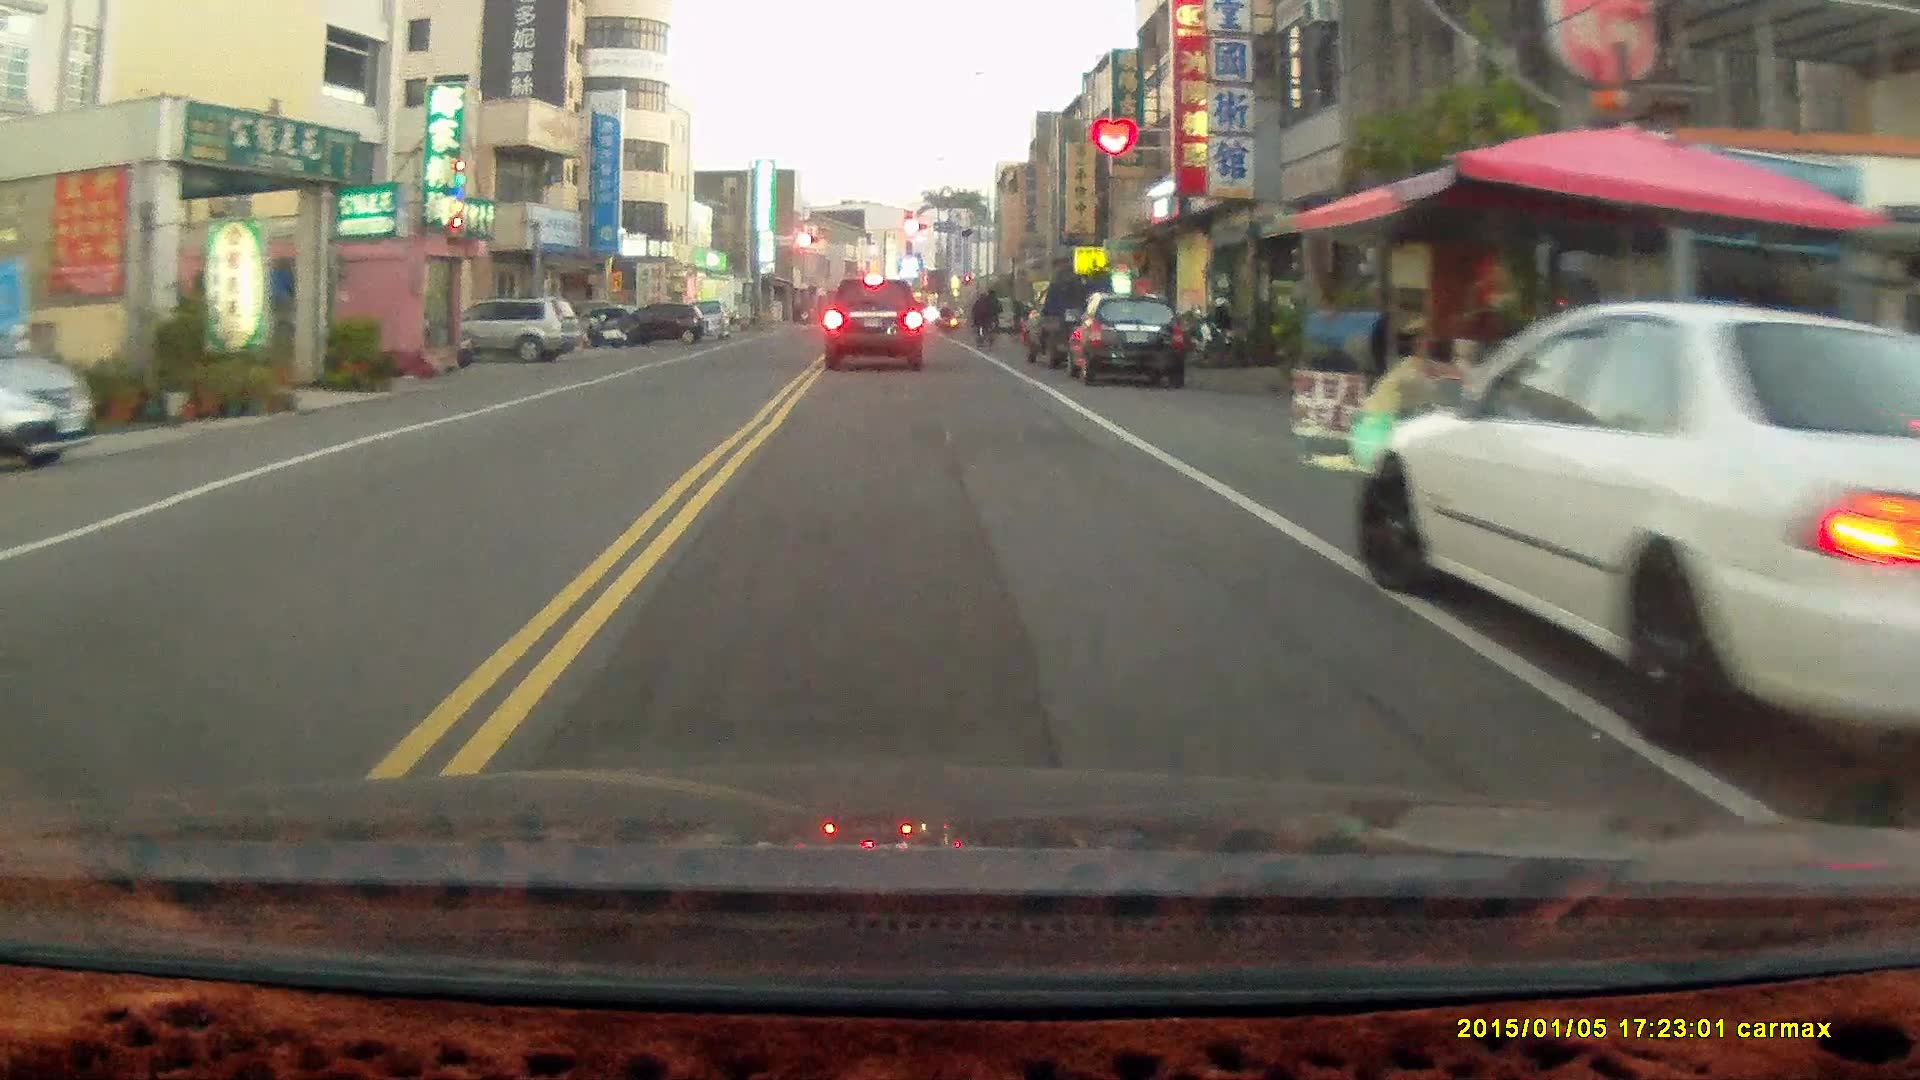rider: (973, 284, 1003, 347)
vehicle: (1354, 297, 1920, 756), (1, 333, 96, 473), (1068, 292, 1195, 391), (821, 274, 929, 370), (424, 298, 582, 363), (601, 297, 704, 345)
